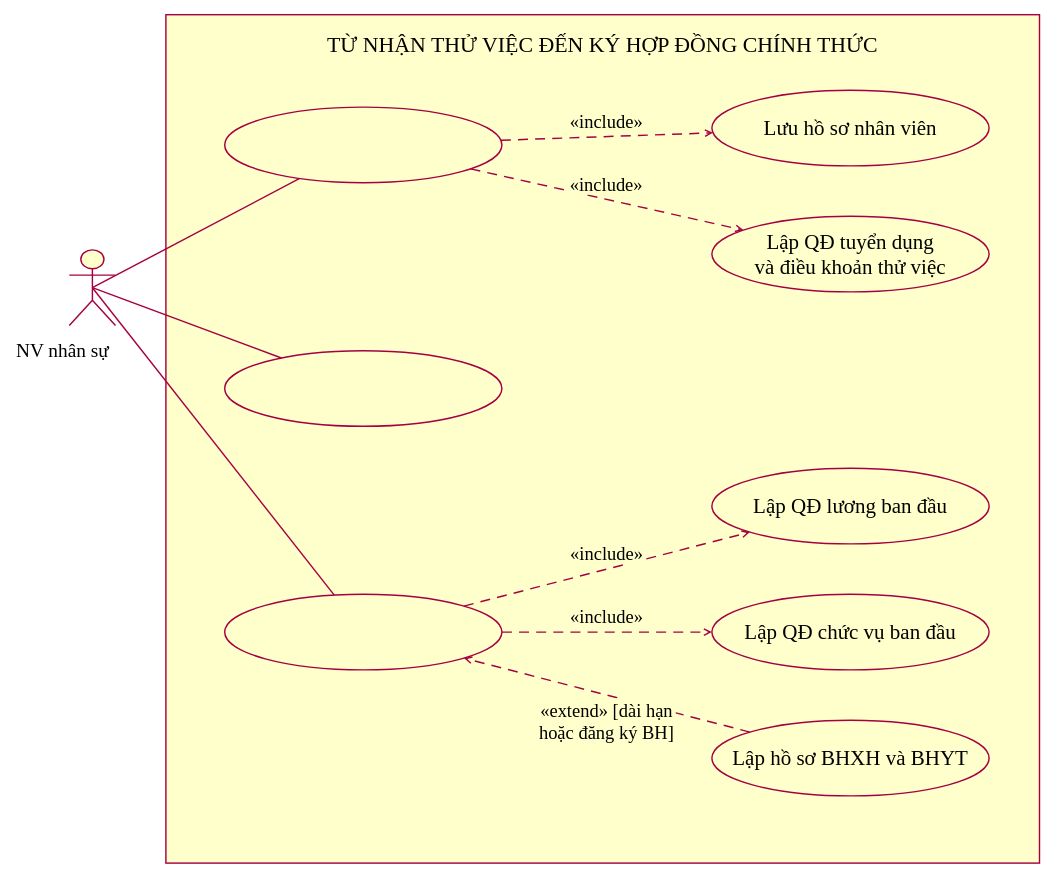
Image size: 1054x879. Some labels were removed from this diagram. Each missing label, with the box of its shape:
Ký hợp đồng chính thức: (224, 593, 502, 670)
Tiếp nhận thử việc: (224, 106, 502, 183)
Đánh giá kết thúc thử việc: (224, 350, 502, 427)
